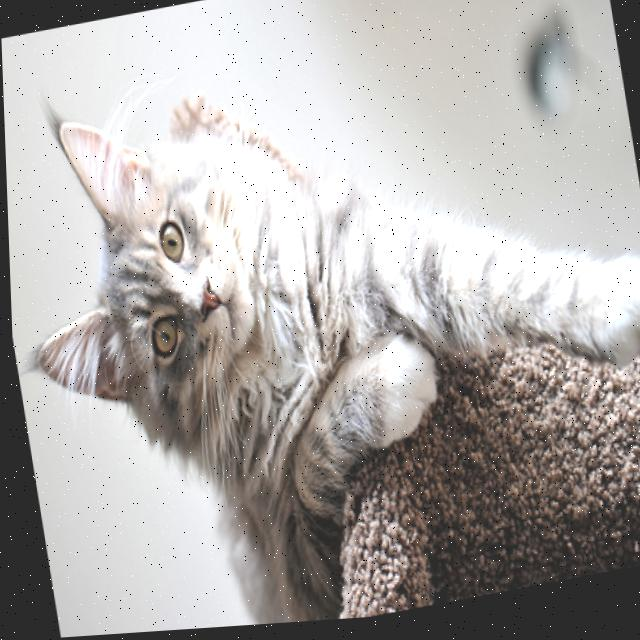Maine Coon: (1, 14, 640, 640)
